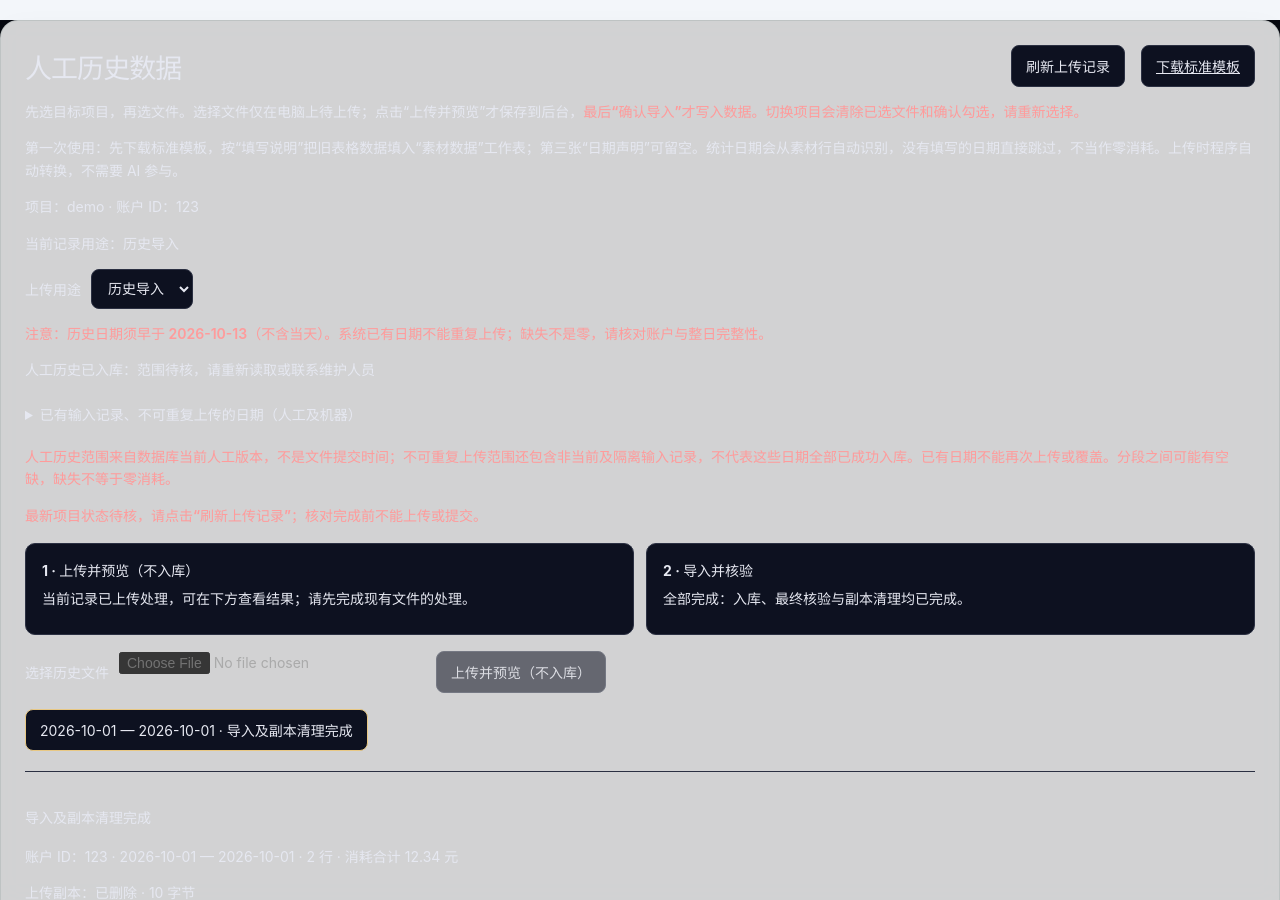
Scenario: history upload confirmation and isolation › requires a context refresh after polling reaches completion, without repeating apply
expect the file field labelled "选择历史文件" is disabled: met, box [119,652,420,692]
Click the button "刷新上传记录". click: (1068, 66)
box: [1011,45,1125,87]
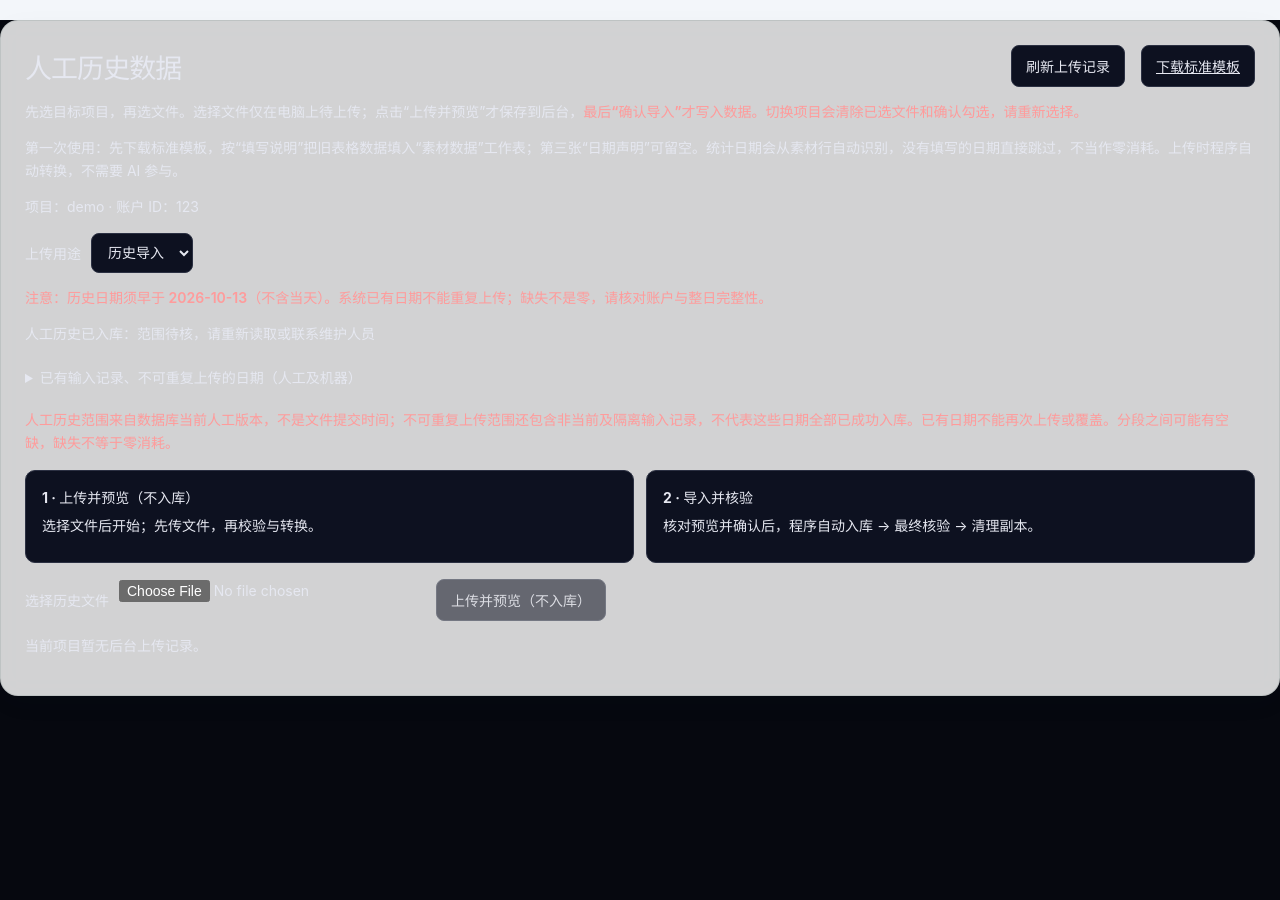
expect the file field labelled "选择历史文件" is enabled: met, box [119,580,420,620]
